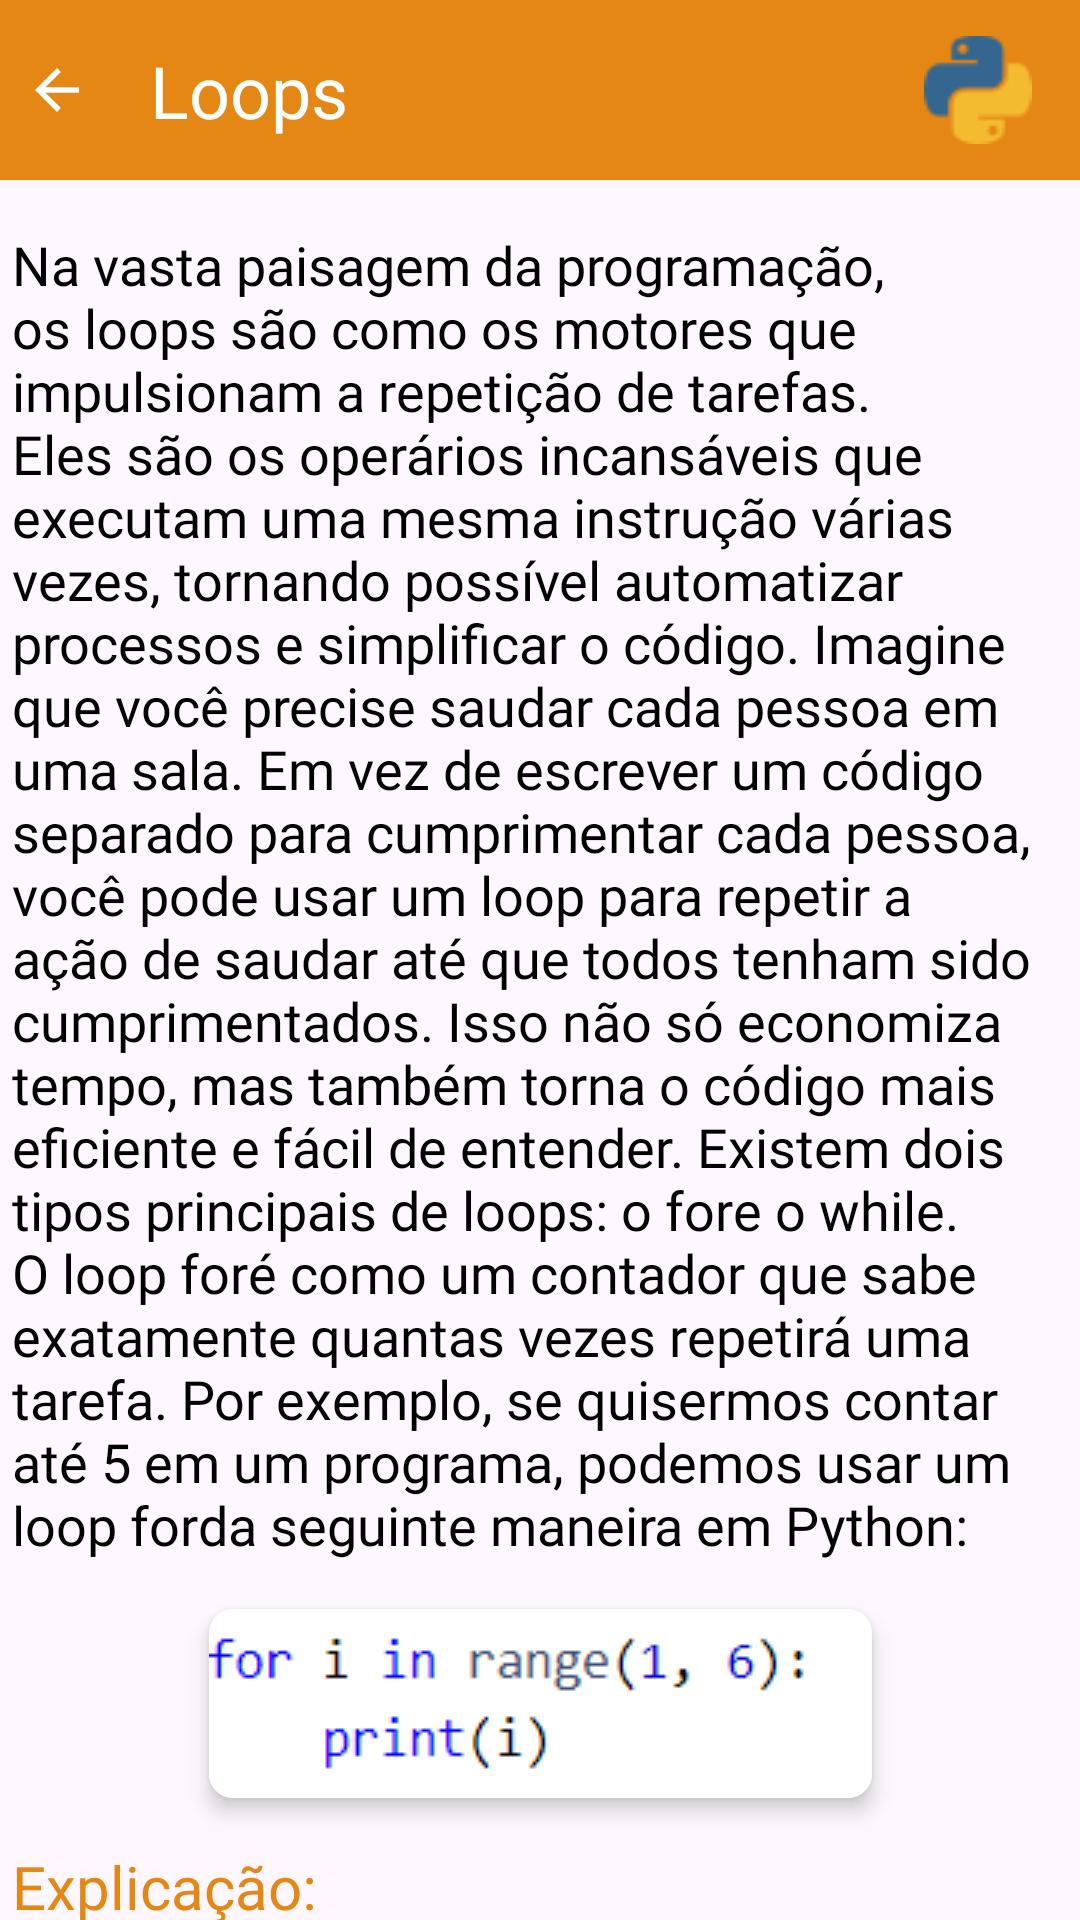

Icons on this 1080 × 1920 Android screen, each with its box as [x1, y1, x2, y2]:
arrow back: [35, 68, 79, 112]
